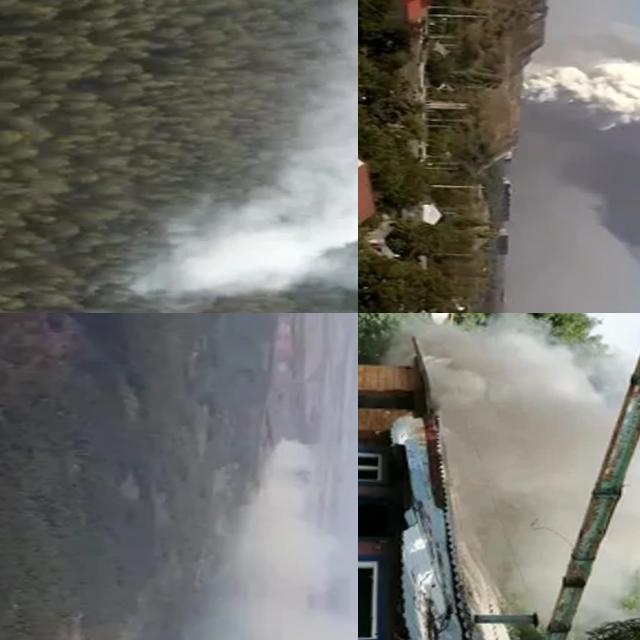smoke: (132, 0, 358, 313), (424, 314, 640, 640), (511, 0, 640, 313)
